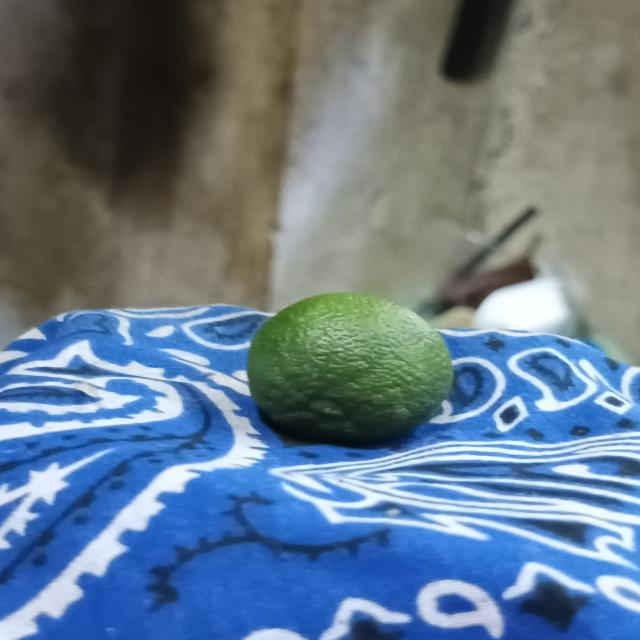heathy: (250, 293, 455, 443)
